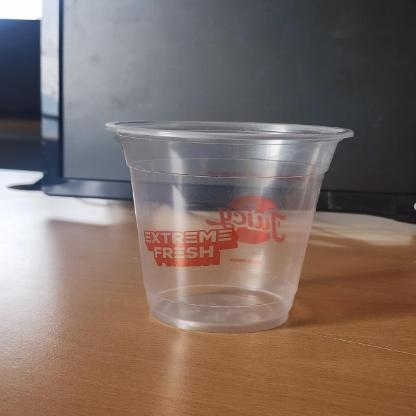Plastic Cup: (105, 117, 352, 332)
